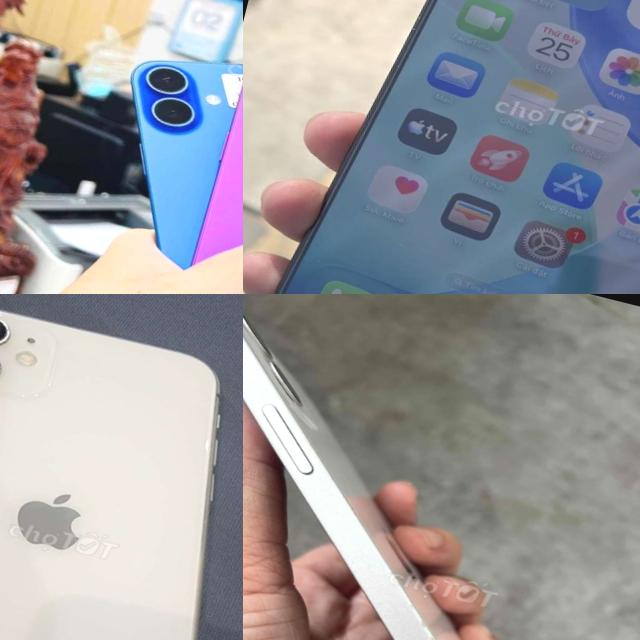gen_11: (0, 294, 243, 640)
gen_12_13: (243, 294, 640, 640)
gen_16: (276, 0, 640, 294)
